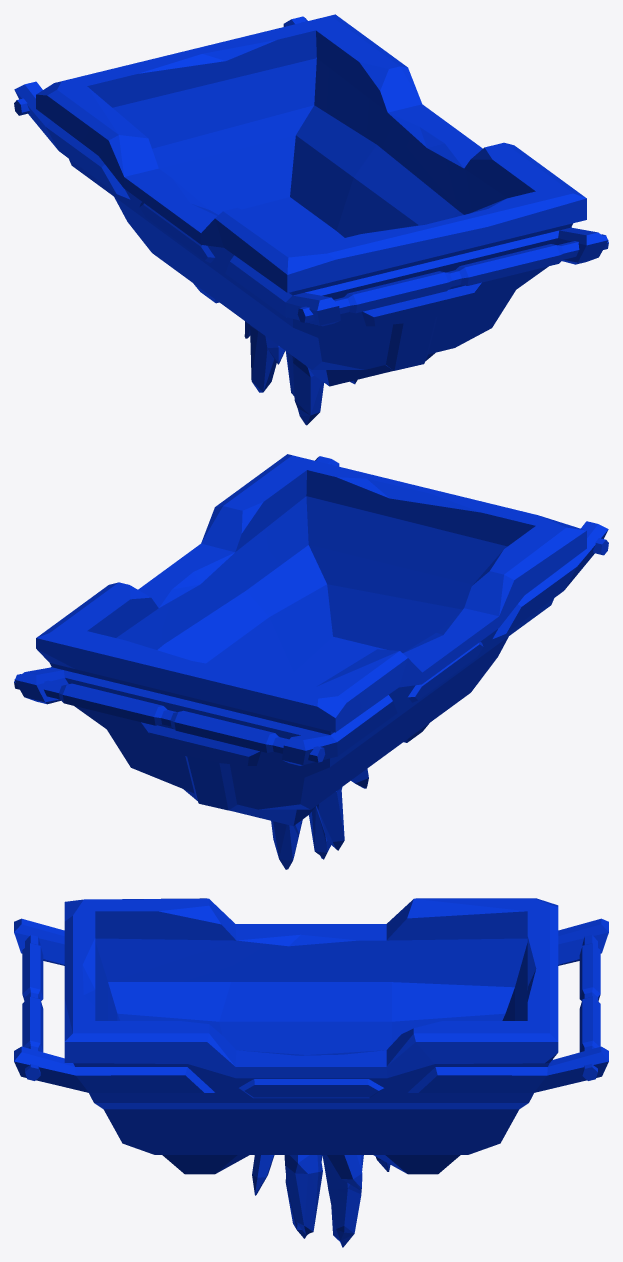
The model's file is SM_Prop_Dwarf_Cart.glb.
3 renders of one model, top to bottom at view 1: azimuth 30°, elevation 25°; view 2: azimuth 150°, elevation 25°; view 3: azimuth 270°, elevation 25°, orthographic.
Parts seen in each view (by area): view 1: SM_Prop_Dwarf_Cart_03.008; view 2: SM_Prop_Dwarf_Cart_03.008; view 3: SM_Prop_Dwarf_Cart_03.008.
Boxes of the visible parts, box(x1,y1,x2,y2) form: SM_Prop_Dwarf_Cart_03.008: box(14, 14, 608, 425); SM_Prop_Dwarf_Cart_03.008: box(14, 454, 608, 869); SM_Prop_Dwarf_Cart_03.008: box(14, 898, 608, 1247).
Bounding box in the file's own units: 0.4951 × 0.4396 × 0.8562.
